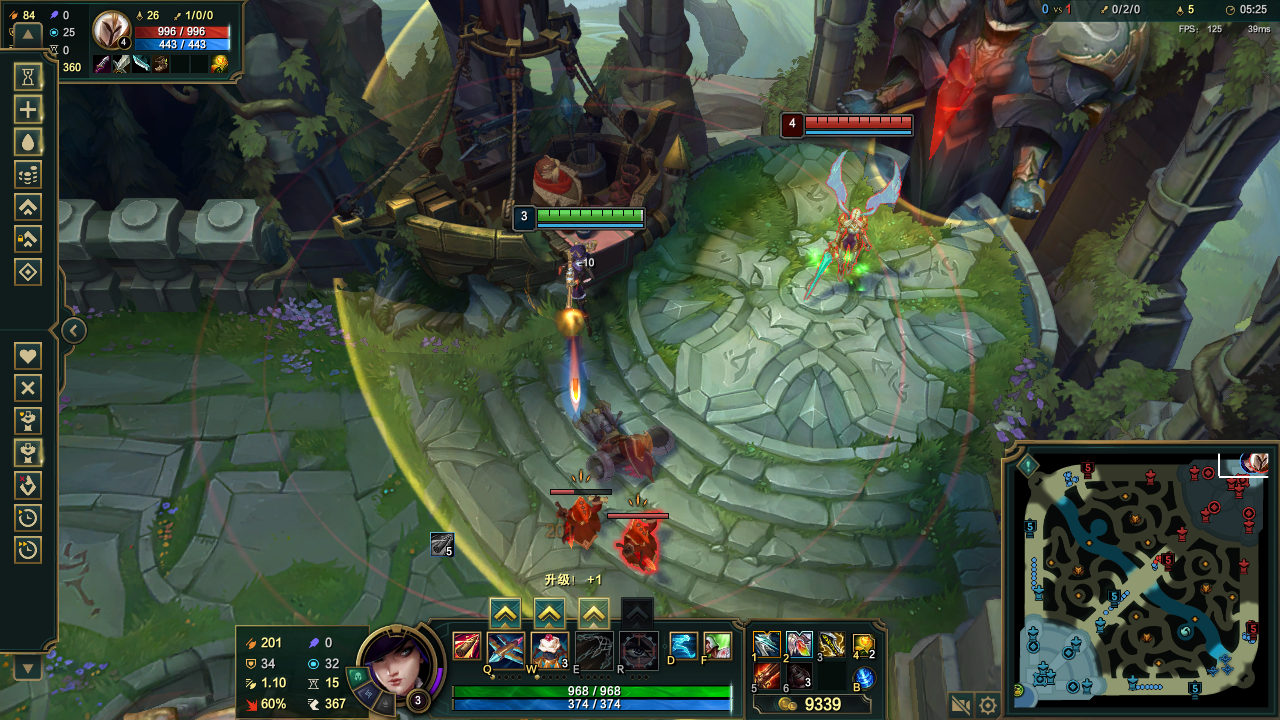DFYX: (801, 111, 917, 129)
